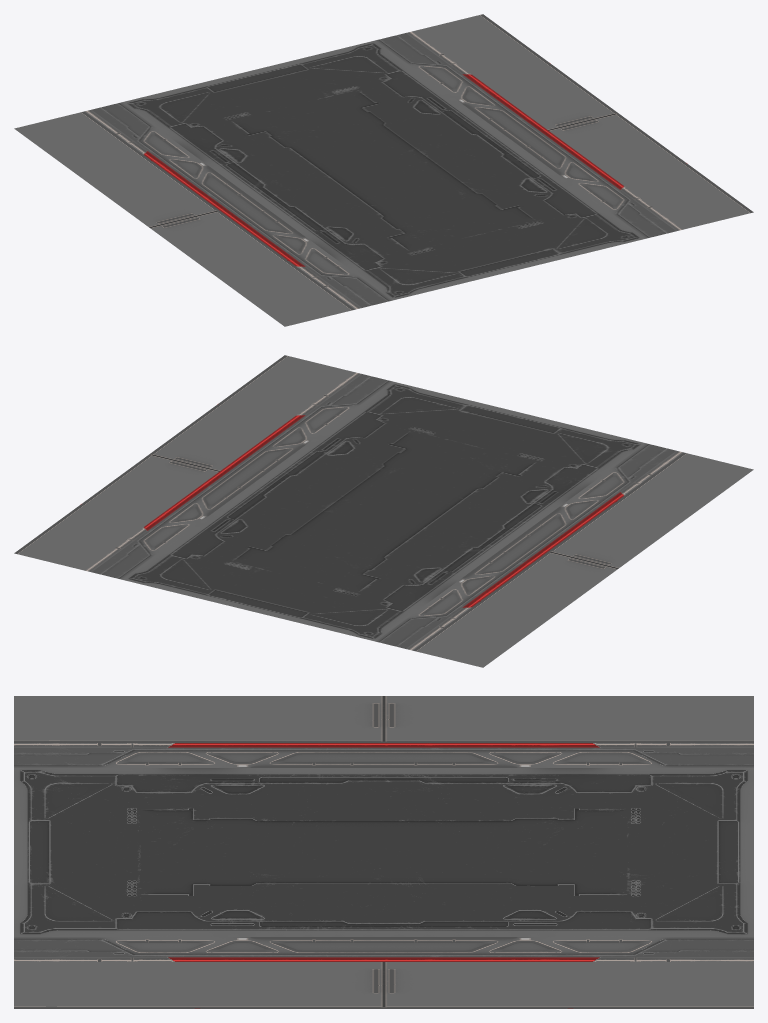
File: Platform_CenterPlate.gltf
The picture shows the model from 3 angles, top to bottom: view 1: azimuth 30°, elevation 25°; view 2: azimuth 150°, elevation 25°; view 3: azimuth 270°, elevation 25°; orthographic projection. The views are drawn at different scales.
Parts seen in each view (by area): view 1: Platform_CenterPlate; view 2: Platform_CenterPlate; view 3: Platform_CenterPlate.
Part boxes in pixels (bbox=[...]): Platform_CenterPlate: bbox=[14, 14, 753, 326]; Platform_CenterPlate: bbox=[14, 355, 753, 667]; Platform_CenterPlate: bbox=[14, 696, 753, 1008].
Bounding box in the file's own units: 4 × 2.84e-14 × 4.
2 materials, 2 textured.
